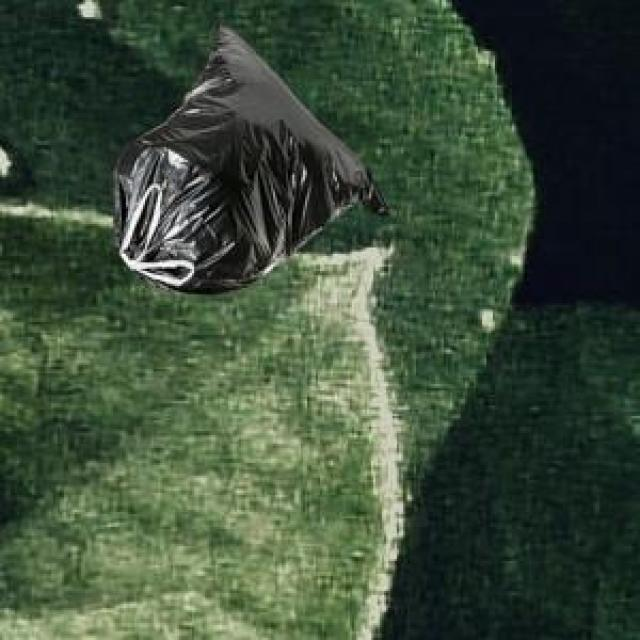Vinyl: (115, 26, 386, 292)
